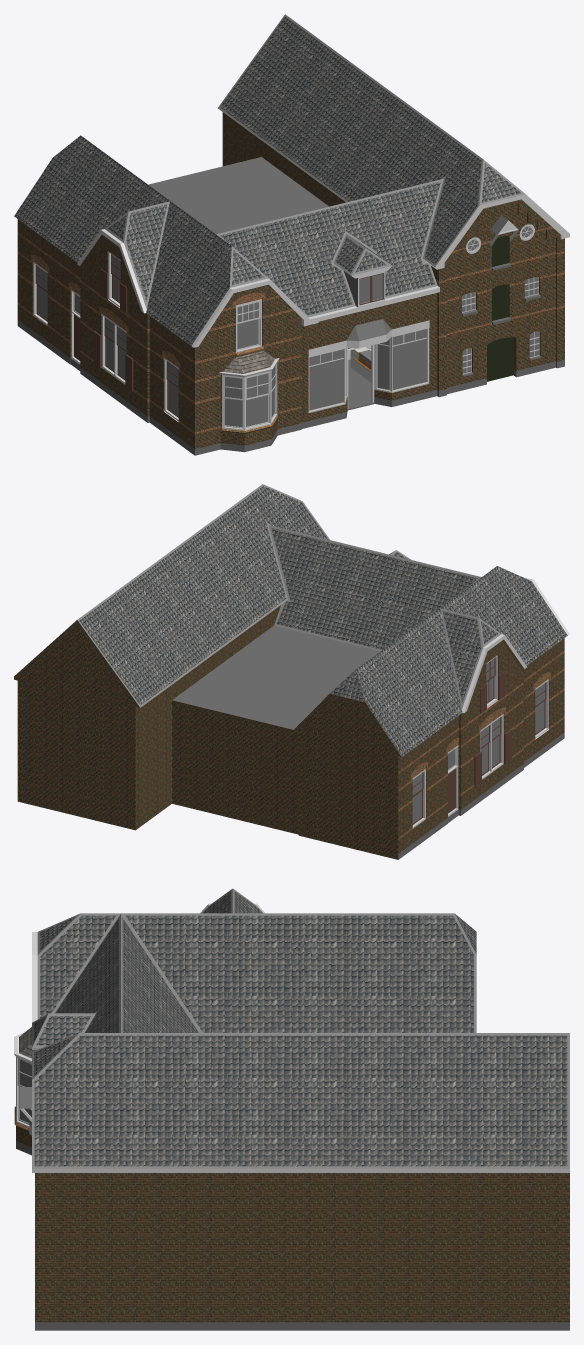
The model's file is Dorpsstraat-20-1950.dae.
3 renders of one model, top to bottom at view 1: azimuth 30°, elevation 25°; view 2: azimuth 150°, elevation 25°; view 3: azimuth 270°, elevation 25°, orthographic. The views are drawn at different scales.
Parts seen in each view (by area): view 1: mesh0%root%9%, mesh0%root%1%, mesh0%root%11%, mesh0%root%6%, mesh0%root%10%, mesh0%root%5%, mesh0%root%3%, mesh0%root%0%, mesh0%root%7%, mesh0%root%2%, mesh0%root%8%; view 2: mesh0%root%1%, mesh0%root%9%, mesh0%root%11%, mesh0%root%5%, mesh0%root%6%, mesh0%root%10%, mesh0%root%7%, mesh0%root%3%; view 3: mesh0%root%9%, mesh0%root%1%, mesh0%root%5%, mesh0%root%11%, mesh0%root%6%.
Boxes of the visible parts, x1=… form: mesh0%root%9%: x1=14, y1=17, x2=521, y2=345; mesh0%root%1%: x1=17, y1=112, x2=564, y2=449; mesh0%root%11%: x1=17, y1=157, x2=564, y2=455; mesh0%root%6%: x1=33, y1=194, x2=569, y2=430; mesh0%root%10%: x1=36, y1=226, x2=538, y2=427; mesh0%root%5%: x1=105, y1=14, x2=525, y2=317; mesh0%root%3%: x1=17, y1=227, x2=564, y2=434; mesh0%root%0%: x1=309, y1=329, x2=471, y2=410; mesh0%root%7%: x1=35, y1=251, x2=429, y2=417; mesh0%root%2%: x1=487, y1=236, x2=513, y2=381; mesh0%root%8%: x1=223, y1=351, x2=275, y2=373; mesh0%root%1%: x1=14, y1=605, x2=564, y2=859; mesh0%root%9%: x1=79, y1=486, x2=567, y2=756; mesh0%root%11%: x1=172, y1=625, x2=564, y2=859; mesh0%root%5%: x1=77, y1=484, x2=501, y2=709; mesh0%root%6%: x1=412, y1=577, x2=569, y2=828; mesh0%root%10%: x1=412, y1=658, x2=545, y2=823; mesh0%root%7%: x1=412, y1=654, x2=546, y2=824; mesh0%root%3%: x1=398, y1=650, x2=564, y2=839; mesh0%root%9%: x1=33, y1=891, x2=567, y2=1166; mesh0%root%1%: x1=16, y1=1125, x2=569, y2=1322; mesh0%root%5%: x1=32, y1=888, x2=569, y2=1168; mesh0%root%11%: x1=16, y1=1050, x2=569, y2=1330; mesh0%root%6%: x1=14, y1=903, x2=569, y2=1172.
Bounding box in the file's own units: 19.95 × 10.57 × 20.53.
